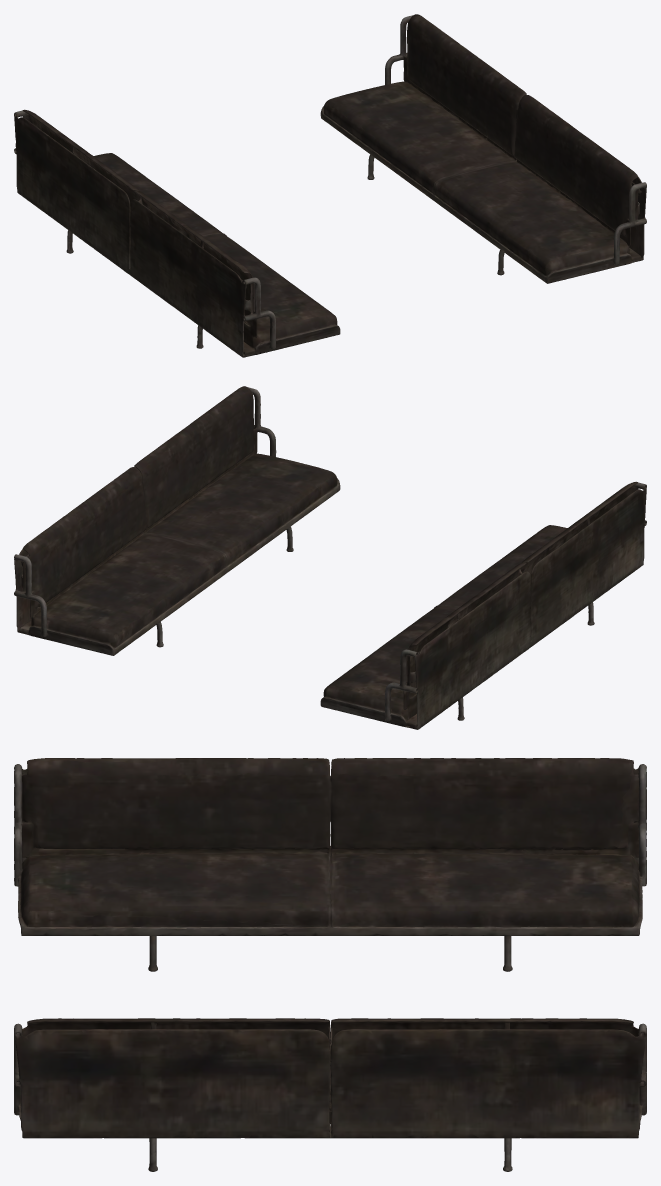
File: abandoned_rusted_train_car_interior_features_worn_leather-asset_wXLwFCzWVqbEMcJipD3X4KNK.glb
The picture shows the model from 3 angles, top to bottom: view 1: azimuth 30°, elevation 25°; view 2: azimuth 150°, elevation 25°; view 3: azimuth 270°, elevation 25°; orthographic projection. The views are drawn at different scales.
Parts seen in each view (by area): view 1: world; view 2: world; view 3: world.
Part boxes in pixels (x1,y1,x2,y2): world: (14, 14, 646, 357); world: (14, 386, 646, 729); world: (14, 758, 646, 1171).
Size of the model in its own units: 1 by 0.2644 by 1.
Materials: 1 (1 with a texture image).
